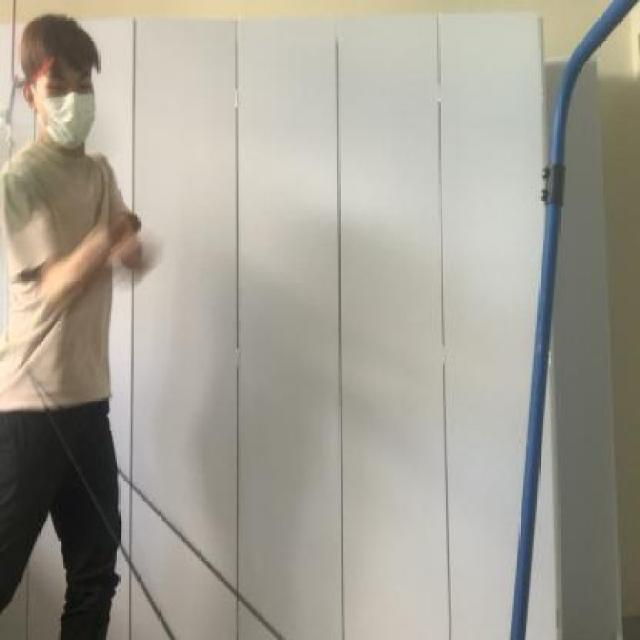baseball: (0, 101, 106, 237)
